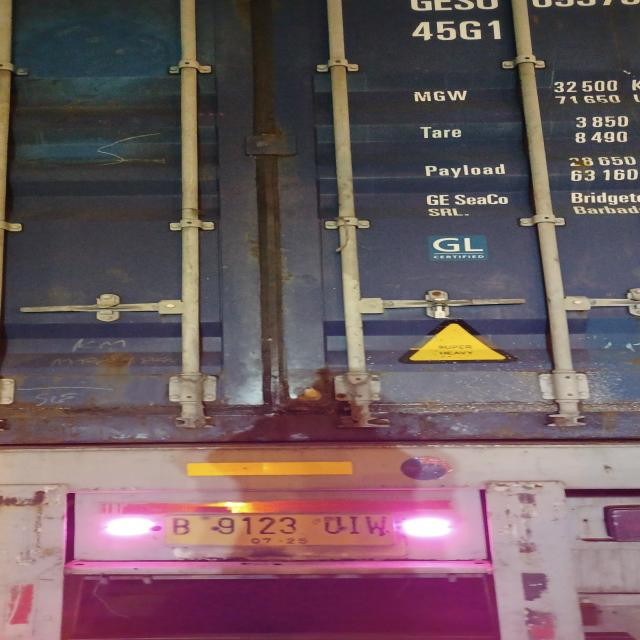seal: (428, 294, 450, 319)
